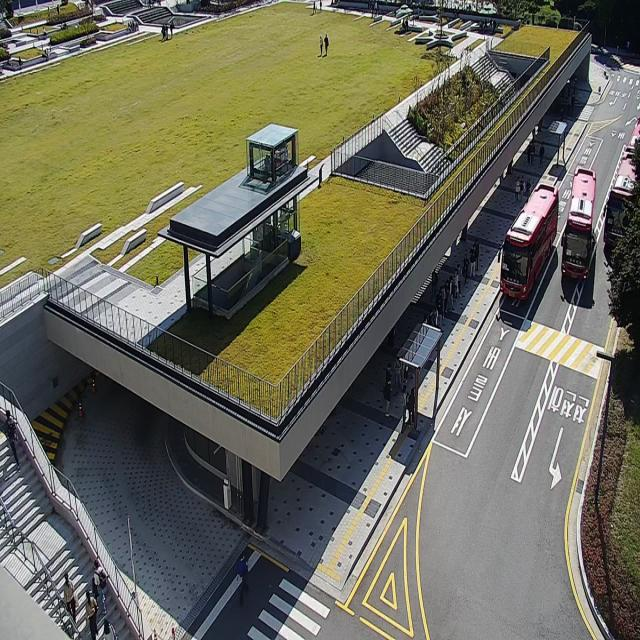queue: (385, 238, 480, 420)
